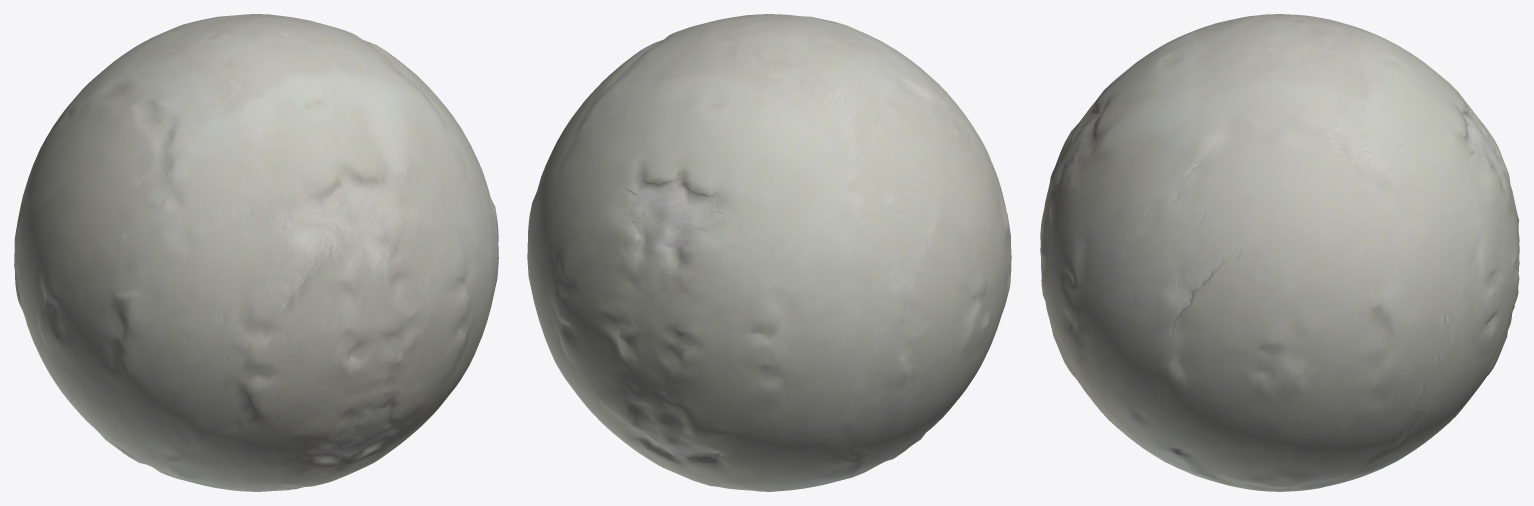
Rendered from moon.glb.
The picture shows the model from 3 angles, left to right: view 1: azimuth 30°, elevation 25°; view 2: azimuth 150°, elevation 25°; view 3: azimuth 270°, elevation 25°; orthographic projection.
Bounding box in the file's own units: 2 × 1.99 × 1.99.
Materials: 1 (1 with a texture image).
